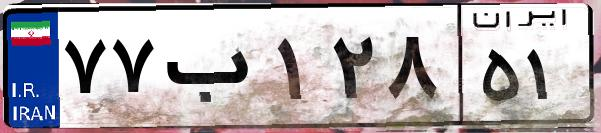1: (270, 28, 330, 110), (525, 38, 570, 115)
2: (330, 28, 385, 110)
5: (475, 38, 525, 113)
7: (57, 26, 110, 100), (110, 28, 158, 98)
8: (385, 28, 445, 110)
ب: (158, 20, 270, 120)
